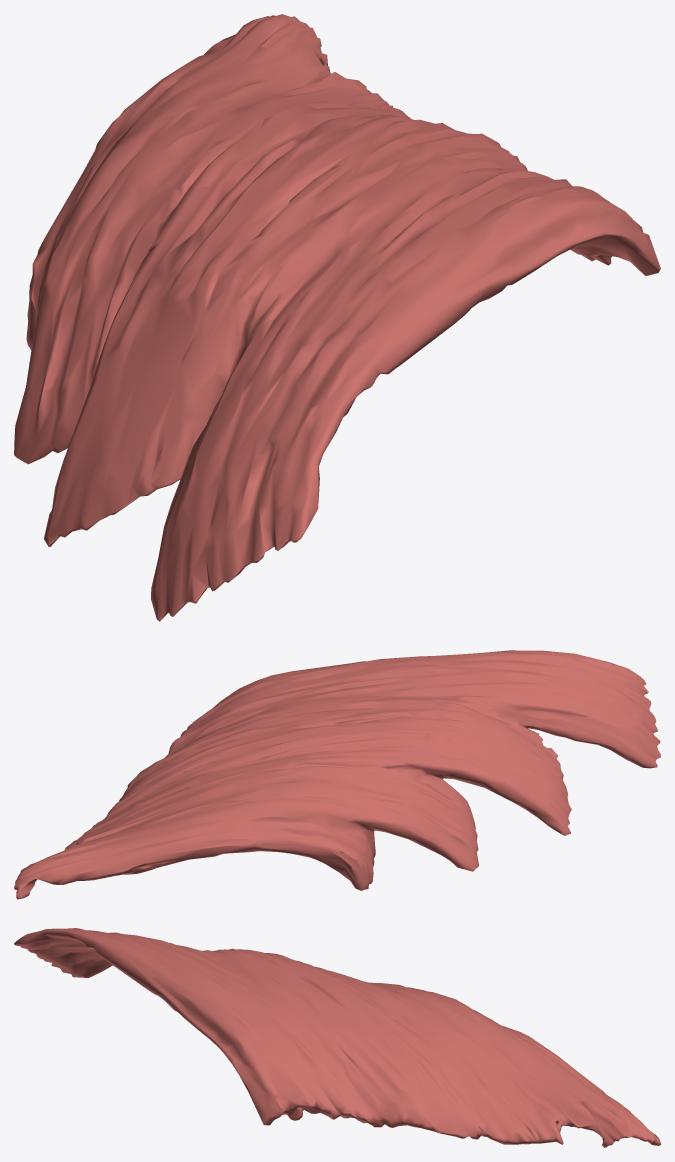
The picture shows the model from 3 angles, top to bottom: view 1: azimuth 30°, elevation 25°; view 2: azimuth 150°, elevation 25°; view 3: azimuth 270°, elevation 25°; orthographic projection. The views are drawn at different scales.
Visible parts, largest first — view 1: 右侧下后锯肌; view 2: 右侧下后锯肌; view 3: 右侧下后锯肌.
Part boxes in pixels (x1,y1,x2,y2): 右侧下后锯肌: (14,14,660,621); 右侧下后锯肌: (14,650,660,899); 右侧下后锯肌: (14,928,660,1147).
Size of the model in its own units: 0.1675 by 0.0547 by 0.2631.
